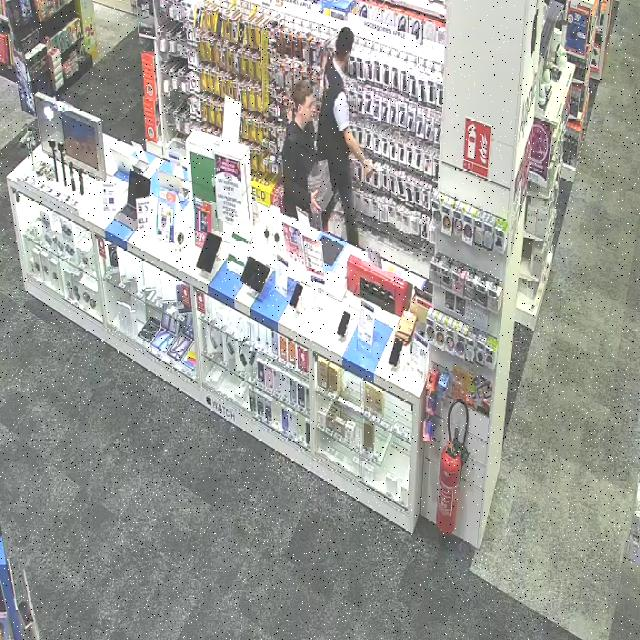article: (307, 158, 334, 211)
hands: (310, 191, 321, 214), (363, 159, 372, 177)
person: (318, 27, 371, 245), (282, 82, 319, 217)
